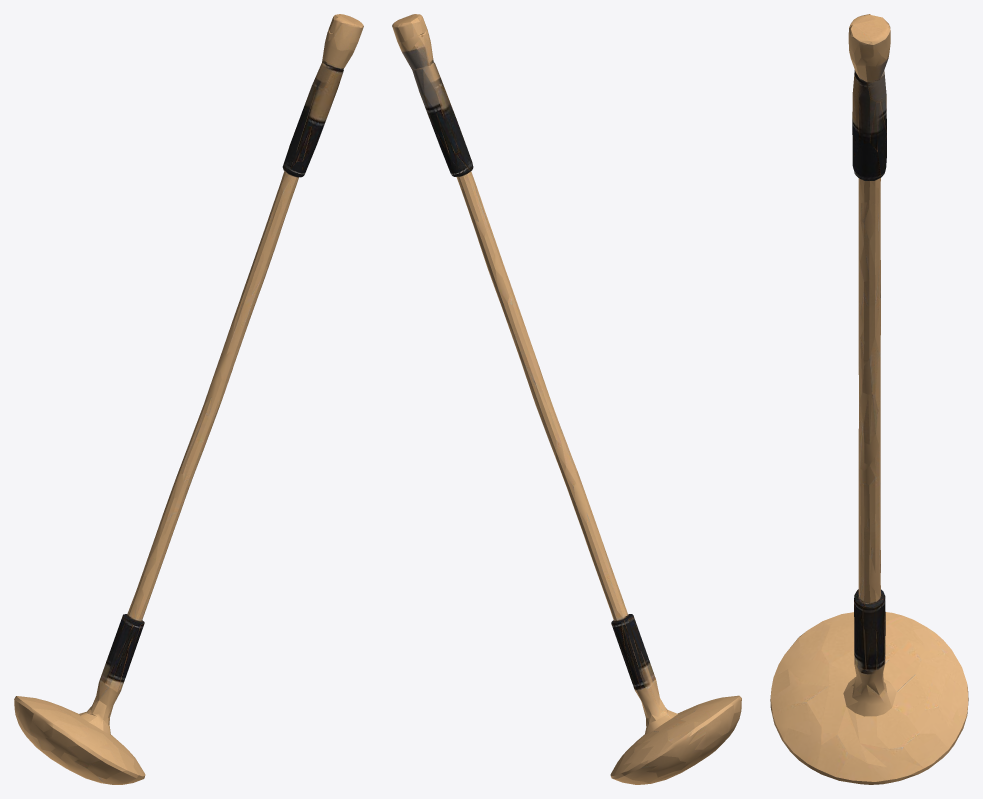
The model's file is golden_club.glb.
3 views of the same model, side by side, from view 1: azimuth 30°, elevation 25°; view 2: azimuth 150°, elevation 25°; view 3: azimuth 270°, elevation 25° (orthographic). The views are drawn at different scales.
Bounding box in the file's own units: 0.9513 × 1.9 × 0.3781.
1 material, 1 textured.
